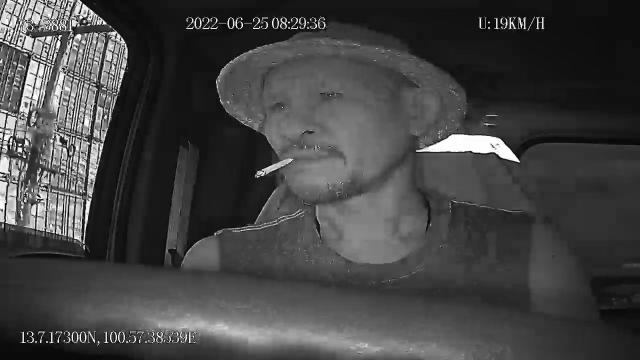Cigarette: (255, 156, 295, 178)
